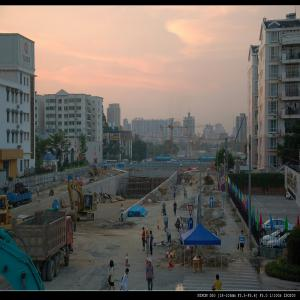none: (110, 262, 114, 269), (126, 269, 130, 276), (216, 275, 220, 282), (151, 231, 154, 236), (143, 227, 146, 232), (242, 231, 245, 235), (181, 217, 183, 221), (122, 205, 124, 209), (166, 214, 168, 217)
red: (165, 229, 168, 233)
white: (149, 258, 153, 265), (178, 216, 180, 220)
yellow: (146, 229, 149, 234), (181, 225, 183, 229), (164, 201, 166, 204), (175, 201, 177, 204)
